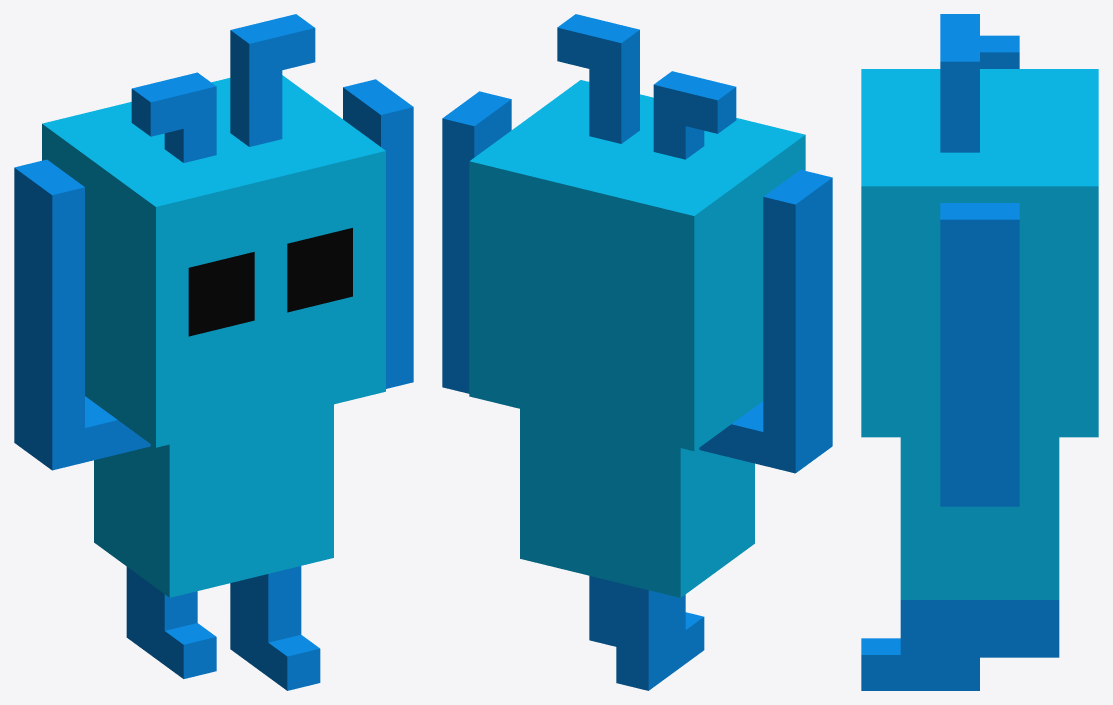
File: alien_walk_hold-01.obj
3 views of the same model, side by side, from view 1: azimuth 30°, elevation 25°; view 2: azimuth 150°, elevation 25°; view 3: azimuth 270°, elevation 25° (orthographic). The views are drawn at different scales.
Size of the model in its own units: 11 by 18 by 6.
1 material, 1 textured.
